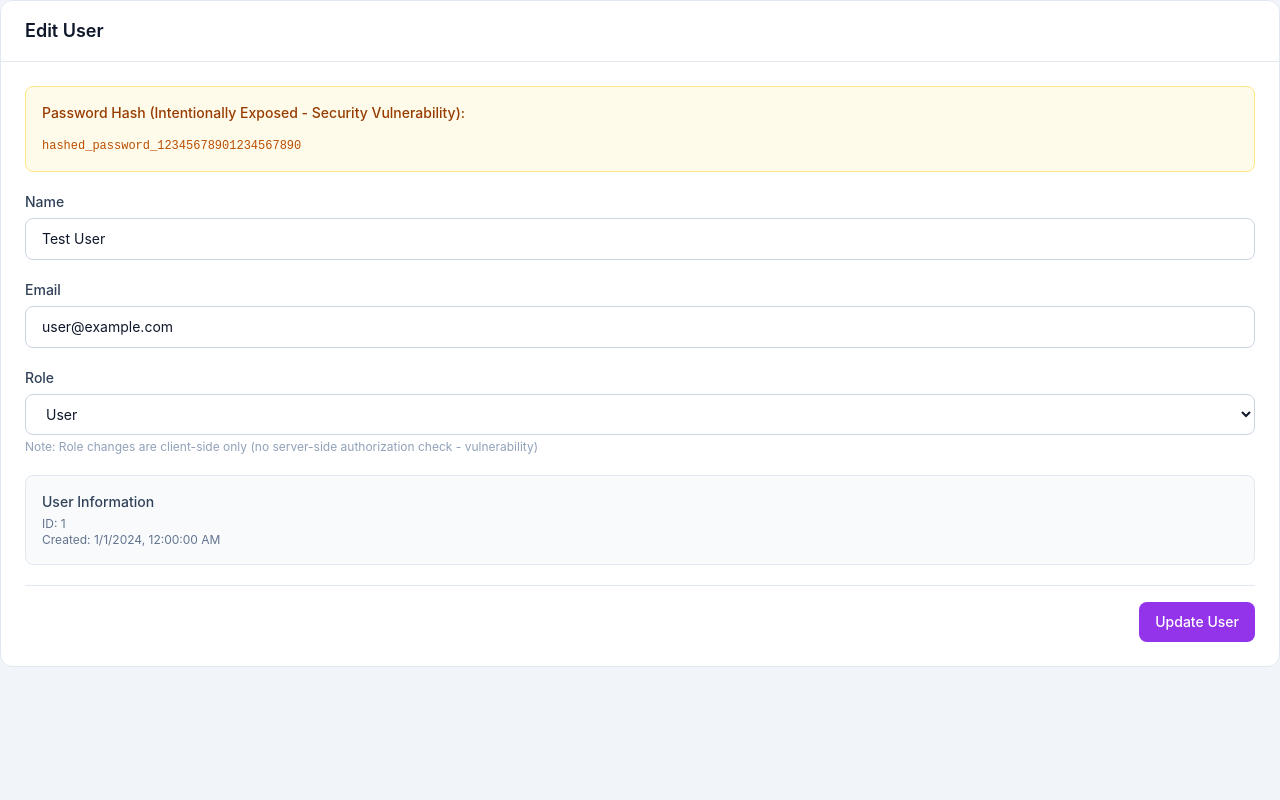
Test case: UserForm › displays error message on submit failure
This screenshot has width=1280, height=800.
Replace the text in the field labelled "Name" with "Updated Name". click: (640, 239)
box: [25,218,1255,260]
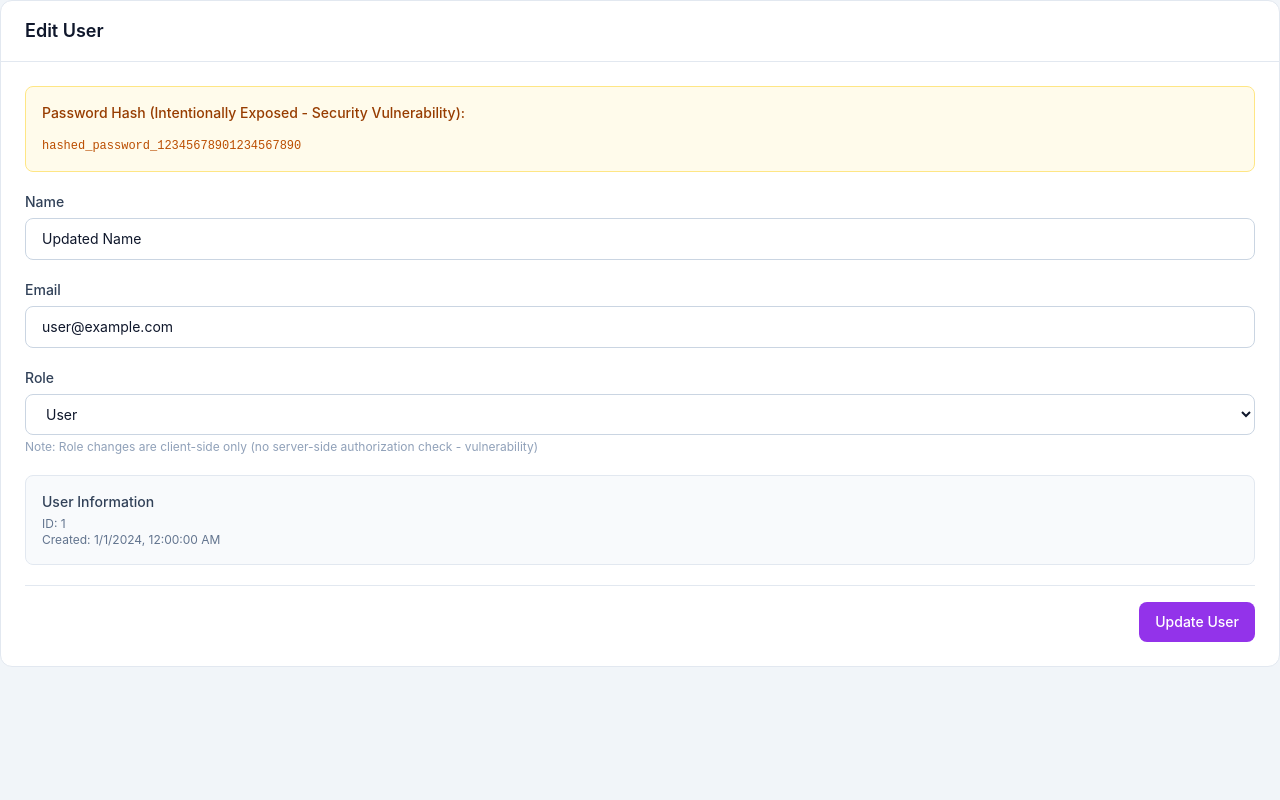
Replace the text in the field labelled "Email" with "updated@example.com". click: (640, 327)
box: [25,306,1255,348]
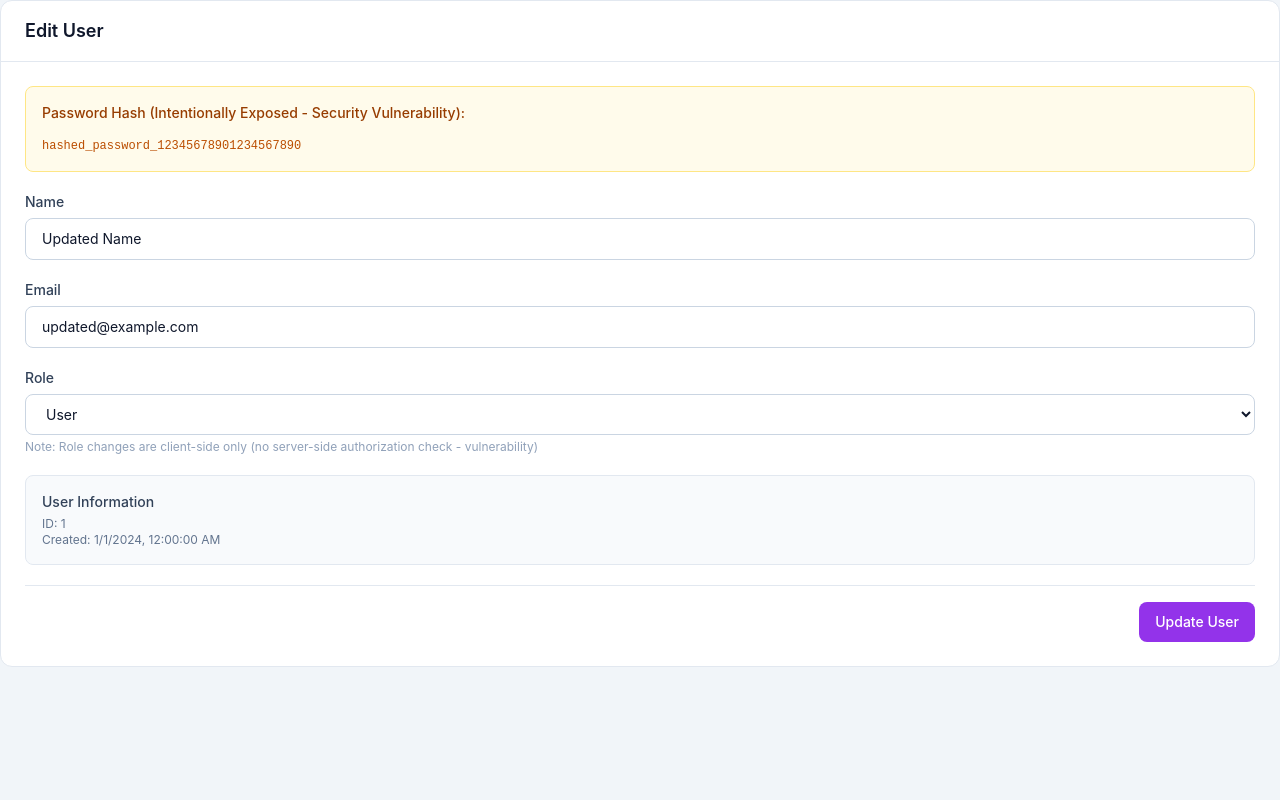
Select "Admin" in the dropdown labelled "Role". click: (640, 414)
box: [25,394,1255,435]
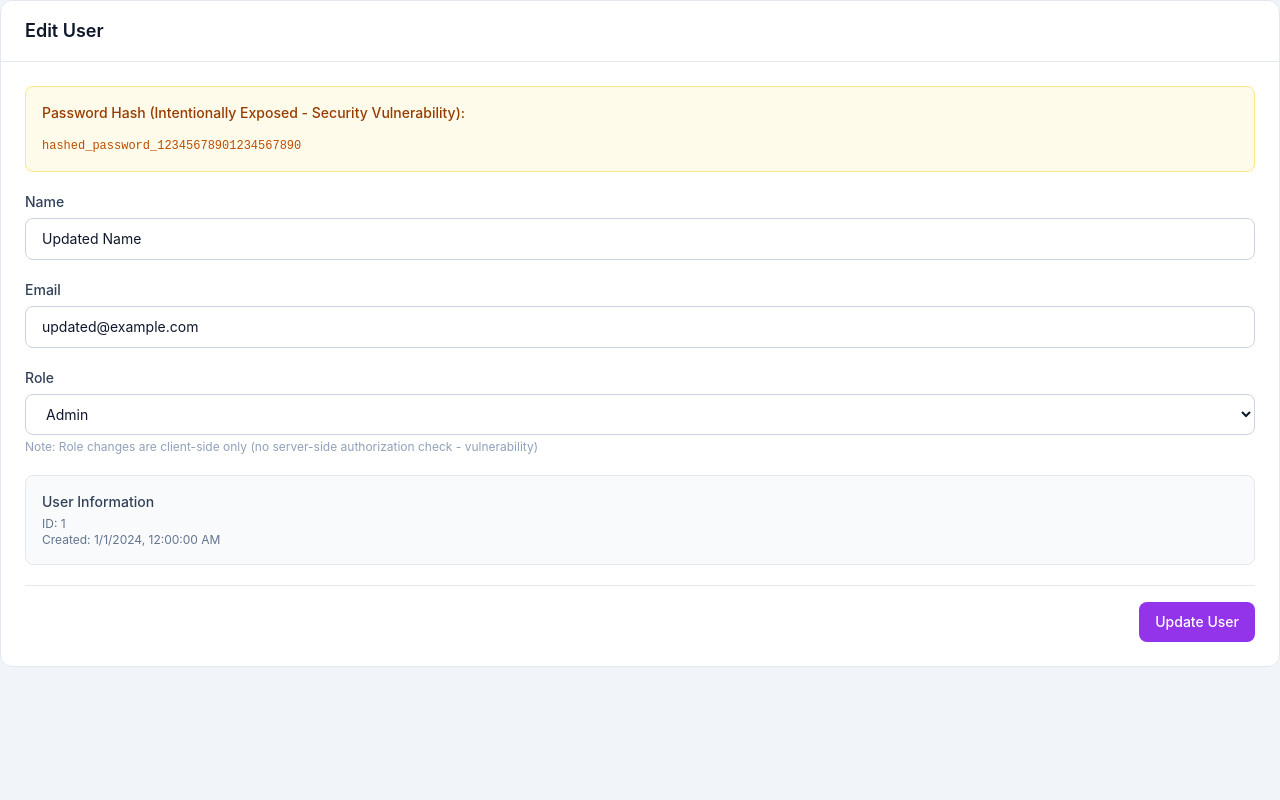
Click the button "Update User". click: (1197, 622)
box: [1139,602,1255,642]
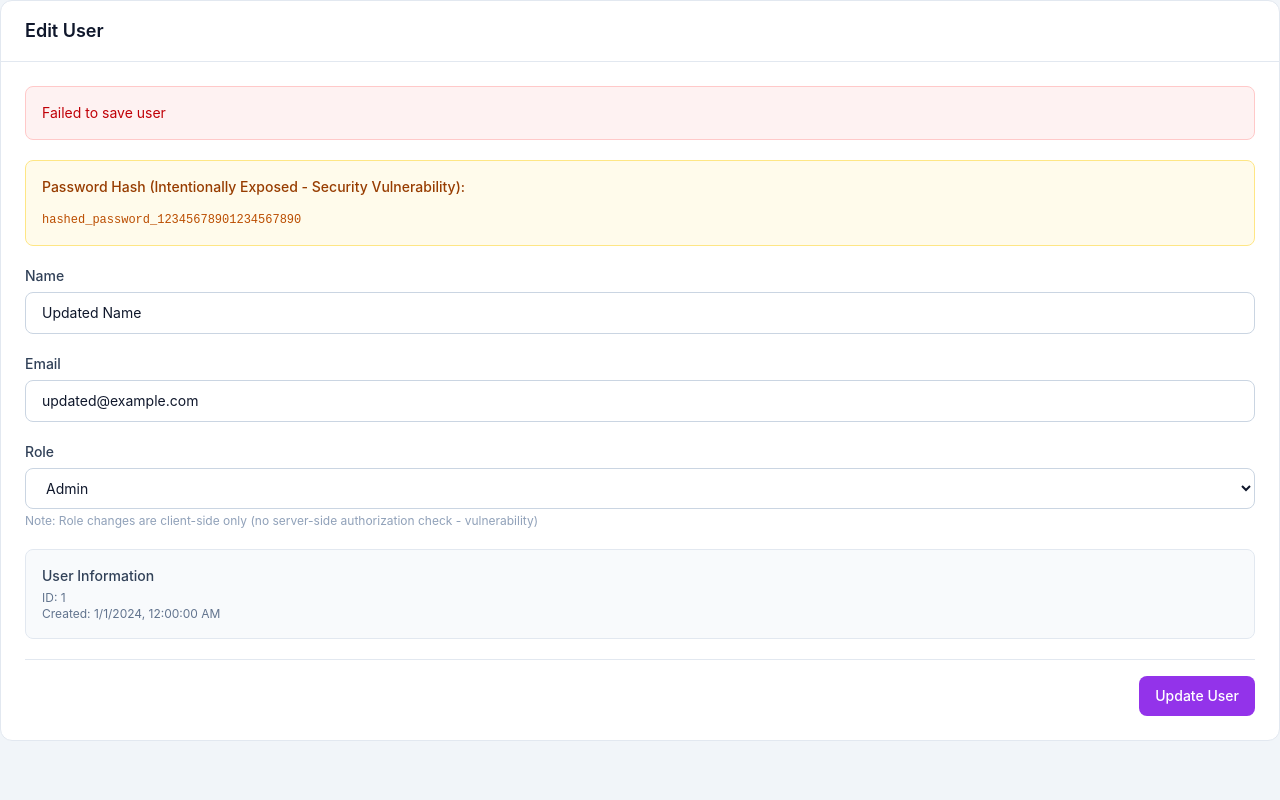
Now the text "Failed to save user" is shown, box [25,86,1255,140]
